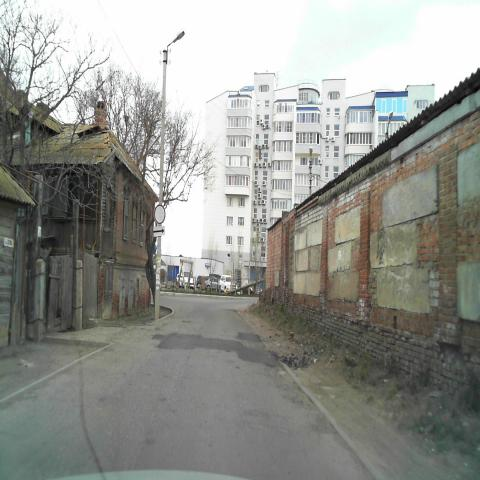3_2: (154, 204, 166, 224)
8_3_1: (152, 224, 166, 236)
